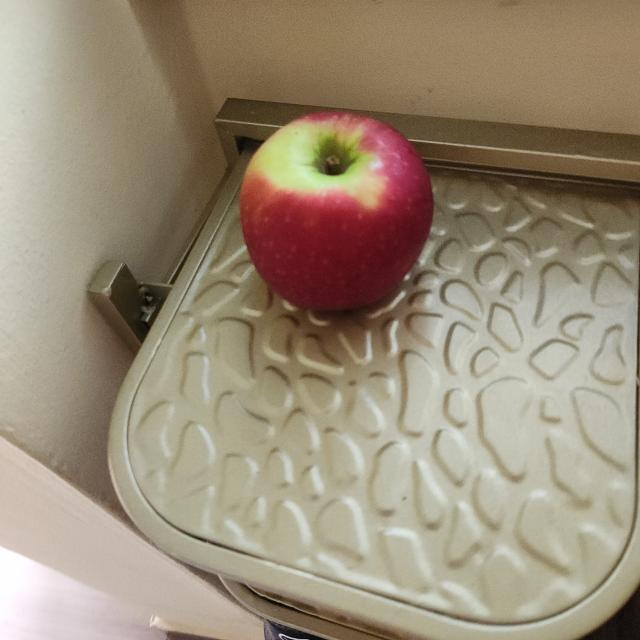apple: (231, 99, 439, 328)
